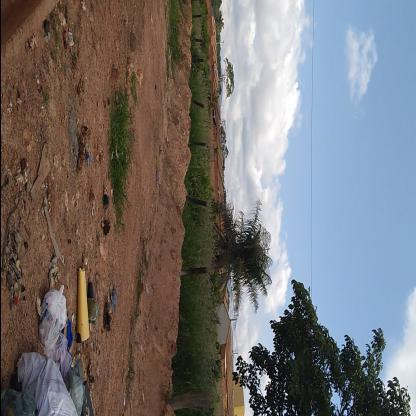lixo: (13, 258, 93, 416)
